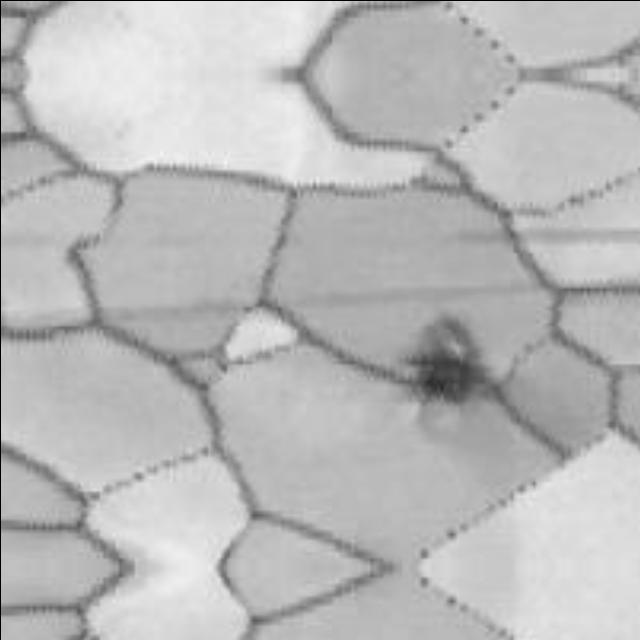good_void: (407, 312, 476, 407)
